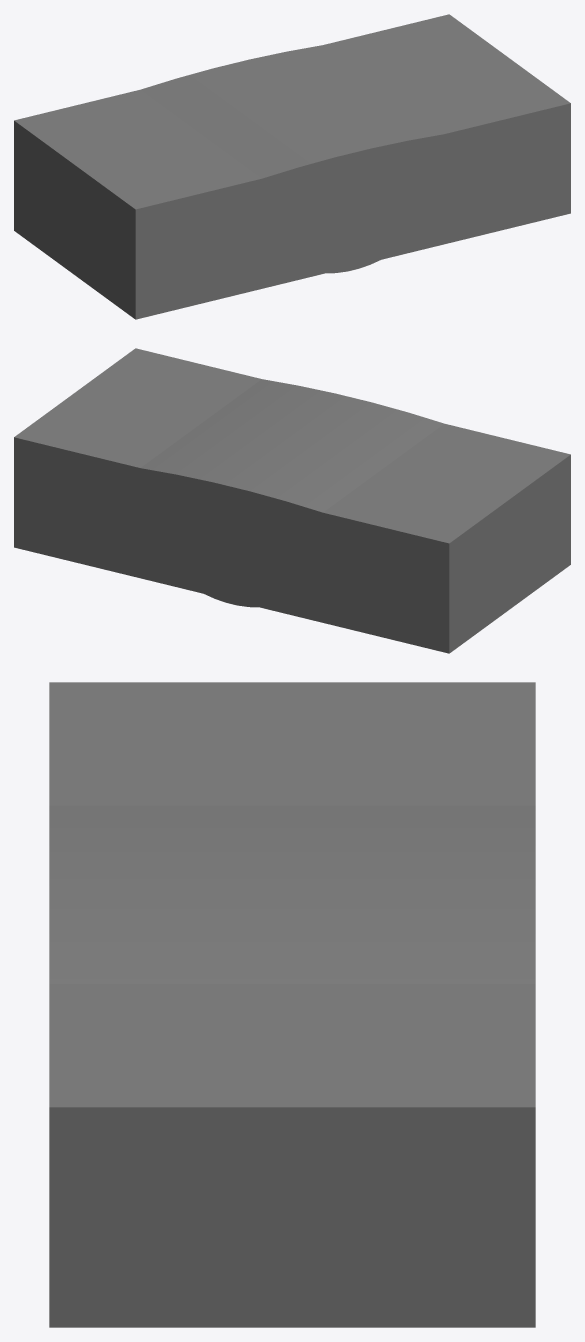
3 views of the same model, one above another, from view 1: azimuth 30°, elevation 25°; view 2: azimuth 150°, elevation 25°; view 3: azimuth 270°, elevation 25° (orthographic). The views are drawn at different scales.
Visible parts, largest first — view 1: mesh_id4, mesh_id5; view 2: mesh_id4, mesh_id5; view 3: mesh_id4, mesh_id5.
Part boxes in pixels (x1,y1,x2,y2): mesh_id4: (14,14,570,319); mesh_id5: (141,45,444,273); mesh_id4: (14,348,570,653); mesh_id5: (140,379,443,607); mesh_id4: (49,682,535,1327); mesh_id5: (49,805,535,983).
Size of the model in its own units: 0.512 by 0.1318 by 0.2477.
Materials: 2 (2 with a texture image).
